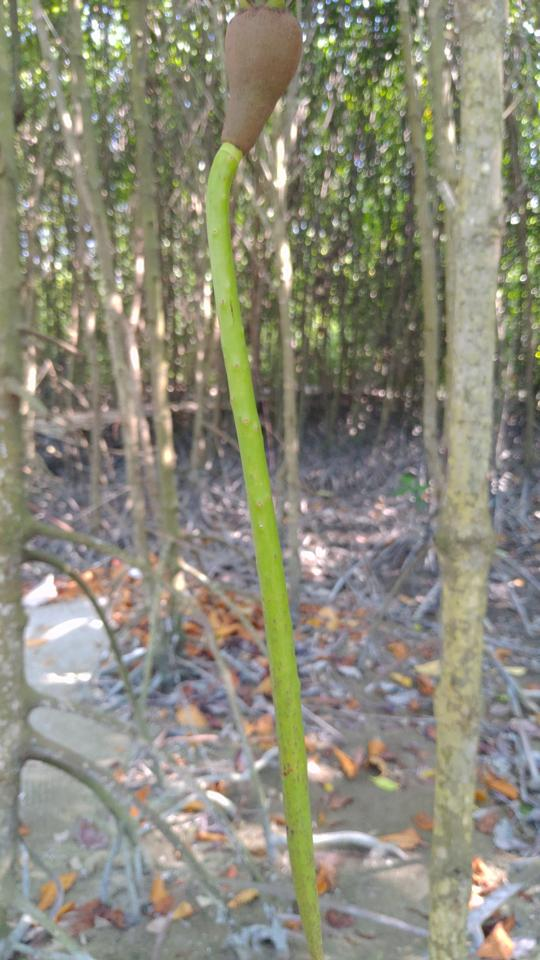setengah matang: (194, 1, 360, 958)
